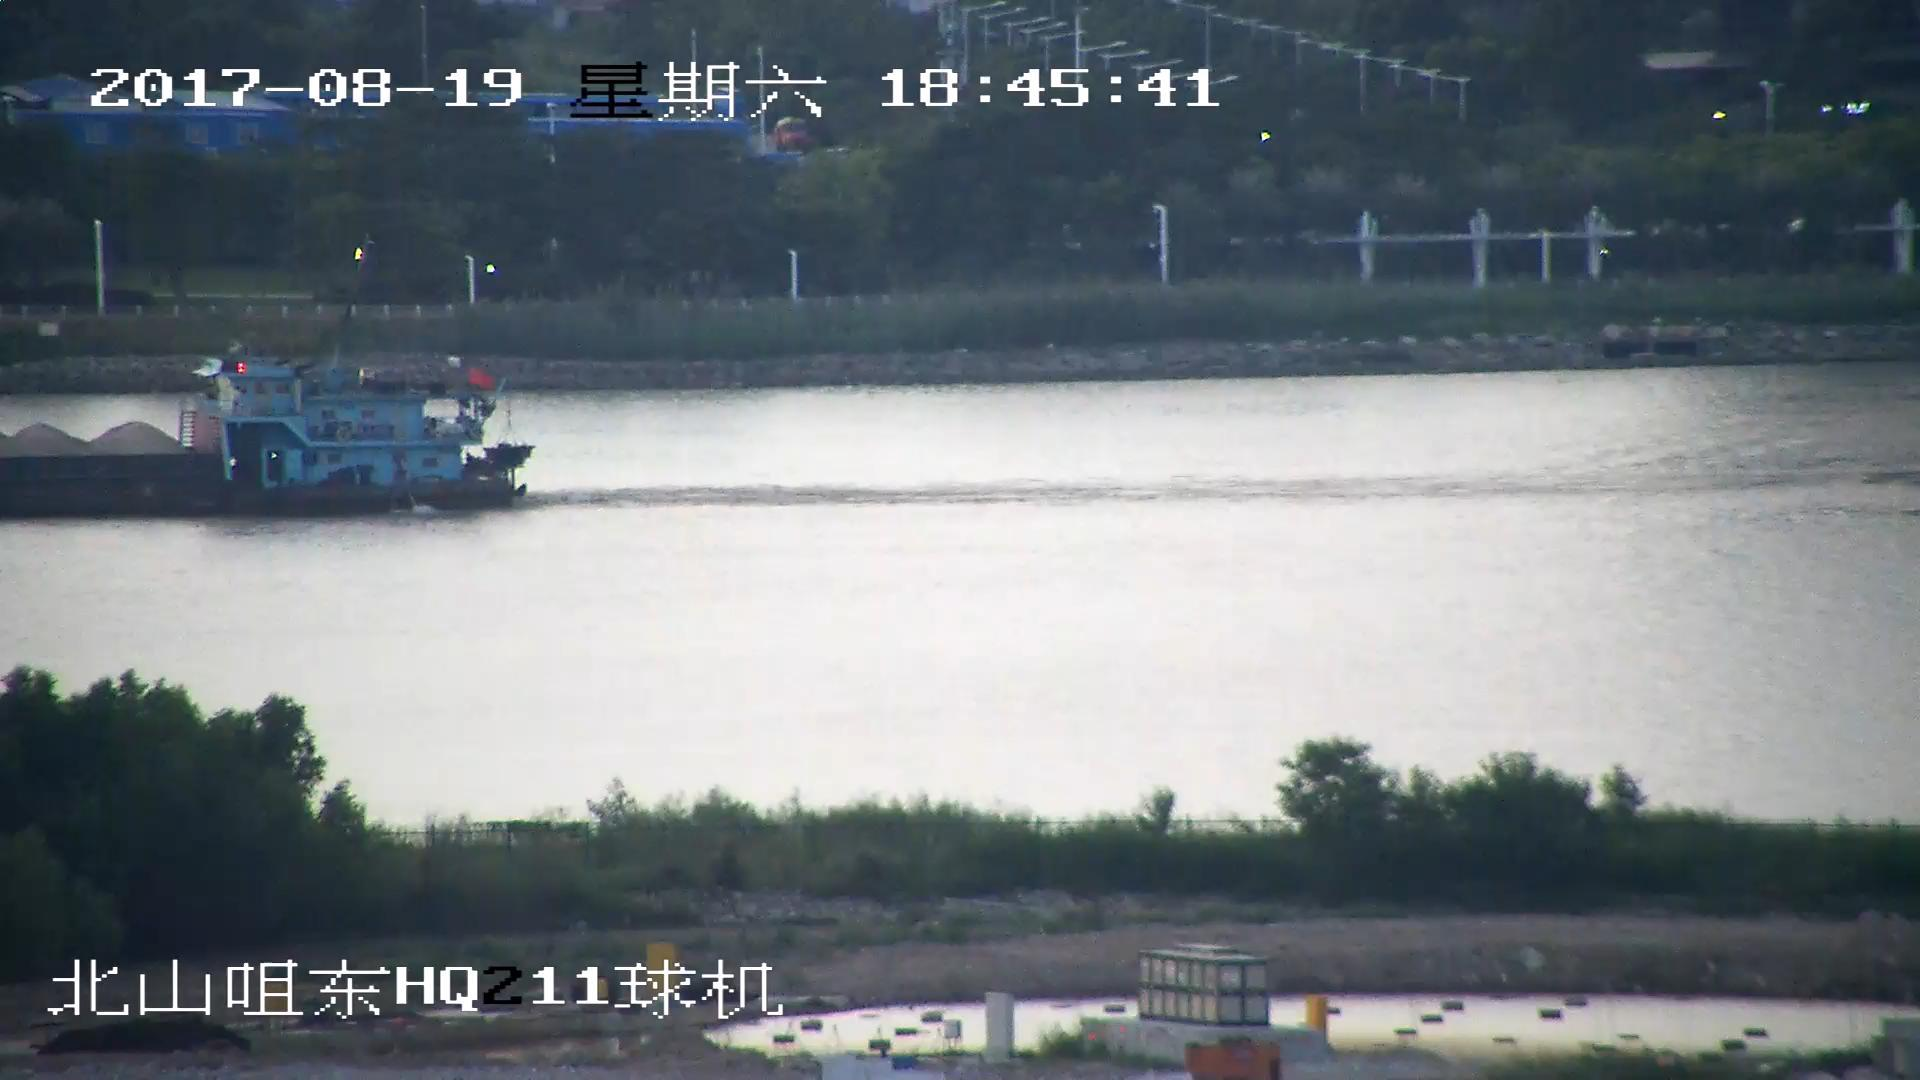Ship: (3, 345, 535, 516)
